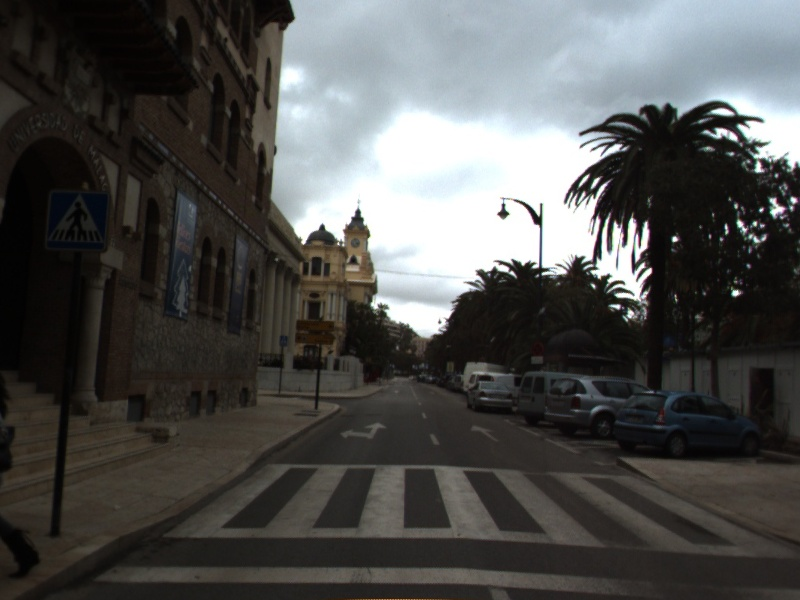STRAIGHT: (468, 422, 501, 443)
STRAIGHT_LEFT: (338, 420, 390, 441)
